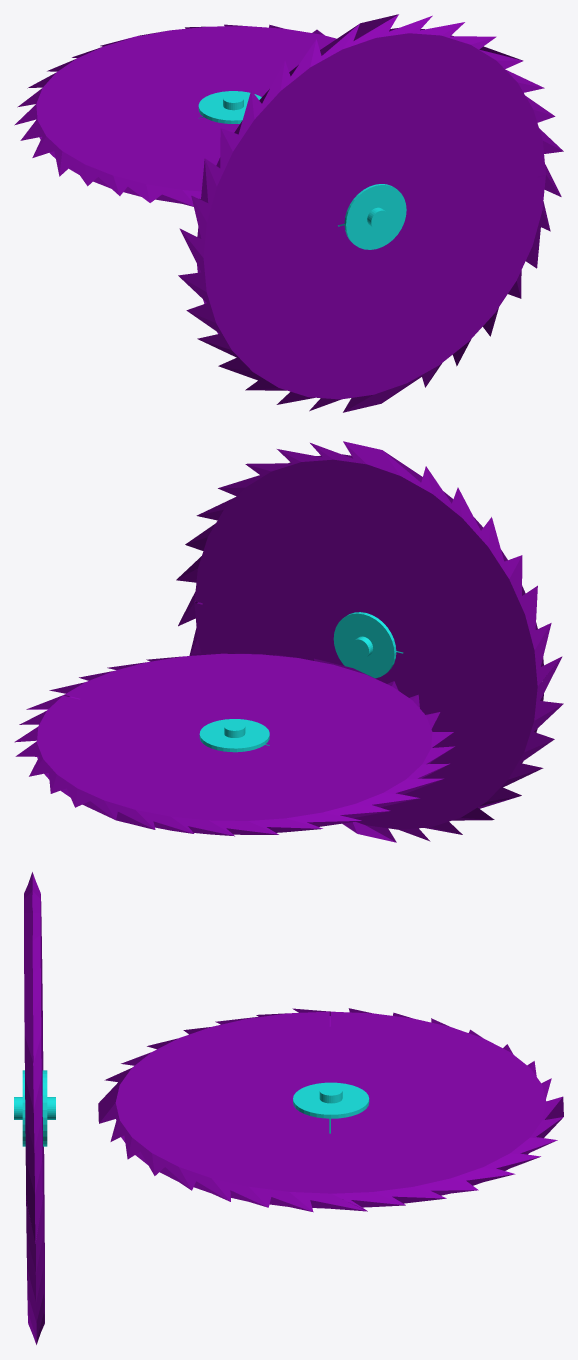
The model's file is maut ki chakkriii.fbx.
3 renders of one model, top to bottom at view 1: azimuth 30°, elevation 25°; view 2: azimuth 150°, elevation 25°; view 3: azimuth 270°, elevation 25°, orthographic. The views are drawn at different scales.
Visible parts, largest first — view 1: Cylinder.004, Cylinder.003, Cylinder, Cylinder.001, Cylinder.005, Cylinder.002; view 2: Cylinder.004, Cylinder, Cylinder.001, Cylinder.003, Cylinder.005, Cylinder.002; view 3: Cylinder.001, Cylinder, Cylinder.004, Cylinder.002, Cylinder.003, Cylinder.005.
Part boxes in pixels (x1,y1,x2,y2): Cylinder.004: (180, 14, 563, 257); Cylinder.003: (178, 174, 561, 412); Cylinder: (14, 24, 336, 176); Cylinder.001: (59, 117, 239, 206); Cylinder.005: (338, 184, 406, 249); Cylinder.002: (198, 91, 261, 123); Cylinder.004: (176, 441, 561, 685); Cylinder: (14, 695, 443, 836); Cylinder.001: (45, 652, 454, 779); Cylinder.003: (178, 601, 563, 842); Cylinder.005: (333, 612, 403, 678); Cylinder.002: (199, 719, 269, 752); Cylinder.001: (98, 1008, 366, 1212); Cylinder: (293, 1008, 563, 1211); Cylinder.004: (24, 872, 42, 1242); Cylinder.002: (293, 1082, 369, 1133); Cylinder.003: (26, 1051, 44, 1344); Cylinder.005: (14, 1070, 55, 1146).
Bounding box in the file's own units: 227 × 216 × 255.
